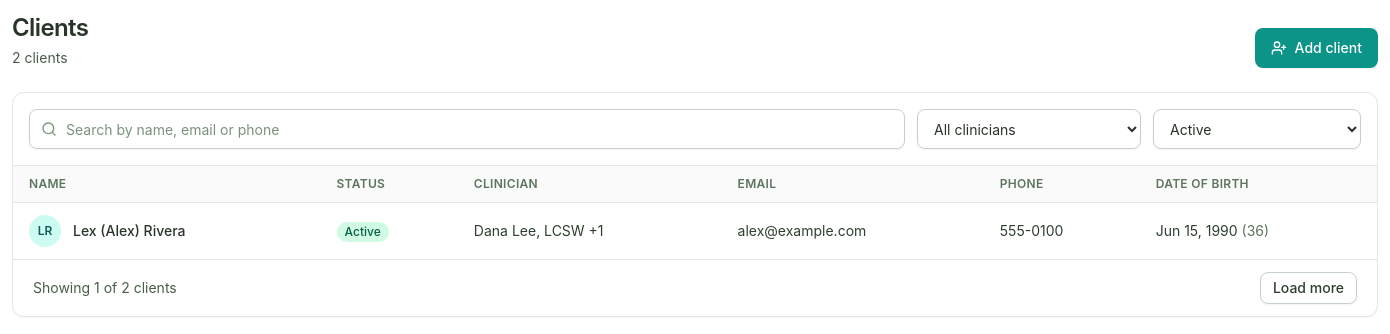
Test: ClientsPage › counts every matching client and loads more on request
Expected: the text "2 clients" is shown, top-left (12, 49), bottom-right (68, 66)
Expected: the text "Showing 1 of 2 clients" is shown, top-left (33, 278), bottom-right (177, 298)
Step 1. Click the button "Load more" → (1308, 288), box top-left (1260, 272), bottom-right (1357, 304)
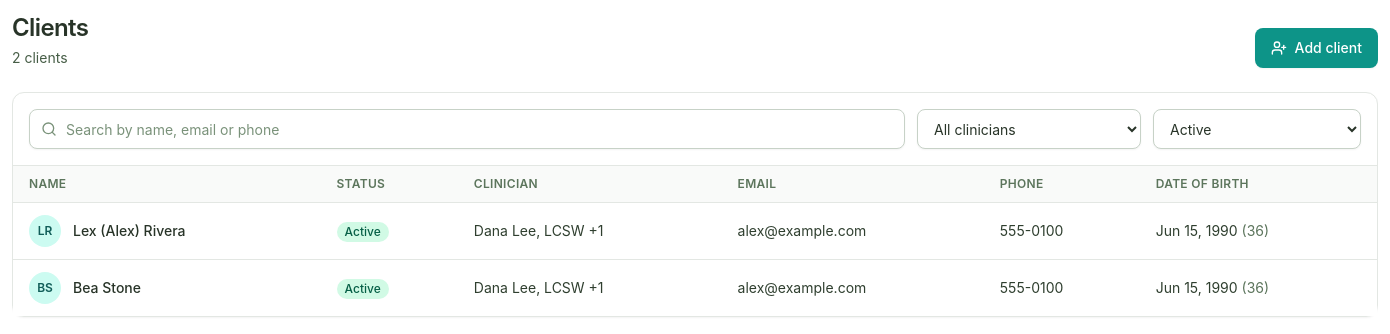
Expected: the link "BS Bea Stone" is shown, top-left (29, 272), bottom-right (141, 304)
Expected: the button "Load more" is gone
